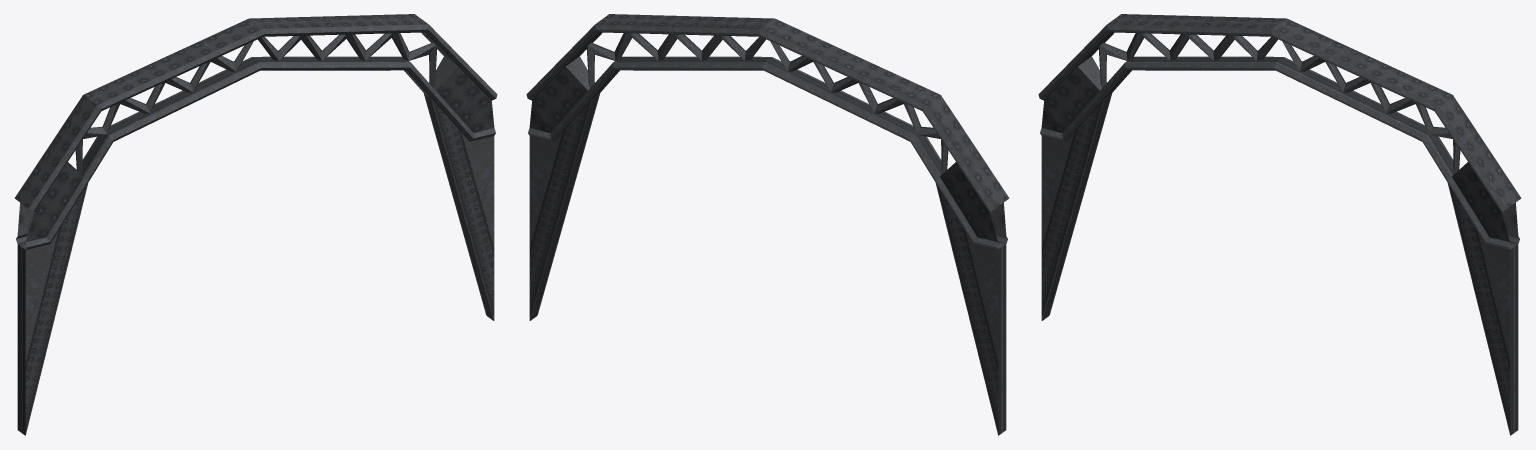
File: sm_pillar_wall_03.glb
The picture shows the model from 3 angles, left to right: view 1: azimuth 30°, elevation 25°; view 2: azimuth 150°, elevation 25°; view 3: azimuth 330°, elevation 25°; orthographic projection.
Visible parts, largest first — view 1: sm_pillar_wall_03.001, sm_pillar_wall_03.003, sm_pillar_wall_03.002; view 2: sm_pillar_wall_03.001, sm_pillar_wall_03.003, sm_pillar_wall_03.002; view 3: sm_pillar_wall_03.001, sm_pillar_wall_03.003, sm_pillar_wall_03.002.
Part boxes in pixels (x1,y1,x2,y2): sm_pillar_wall_03.001: (14, 14, 497, 249); sm_pillar_wall_03.003: (17, 93, 494, 435); sm_pillar_wall_03.002: (75, 33, 437, 173); sm_pillar_wall_03.001: (526, 14, 1009, 249); sm_pillar_wall_03.003: (529, 93, 1006, 435); sm_pillar_wall_03.002: (586, 33, 948, 173); sm_pillar_wall_03.001: (1038, 14, 1521, 249); sm_pillar_wall_03.003: (1041, 93, 1518, 435); sm_pillar_wall_03.002: (1098, 33, 1460, 173).
Bounding box in the file's own units: 19 × 13.64 × 1.23.
Materials: 1 (1 with a texture image).
